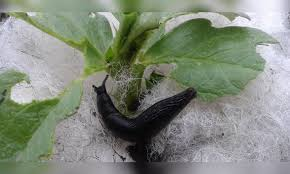slug: (91, 78, 194, 141)
